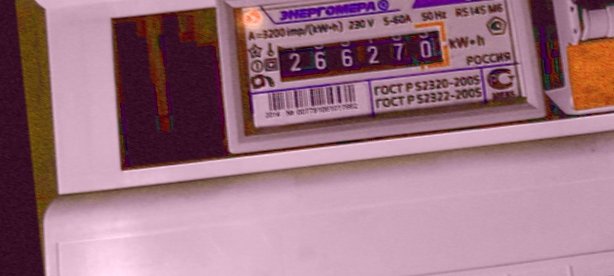0: (420, 36, 434, 58)
2: (288, 49, 305, 71), (367, 41, 381, 64)
6: (315, 48, 330, 69), (340, 45, 355, 65)
7: (392, 39, 407, 61)
screen: (268, 14, 460, 91)
